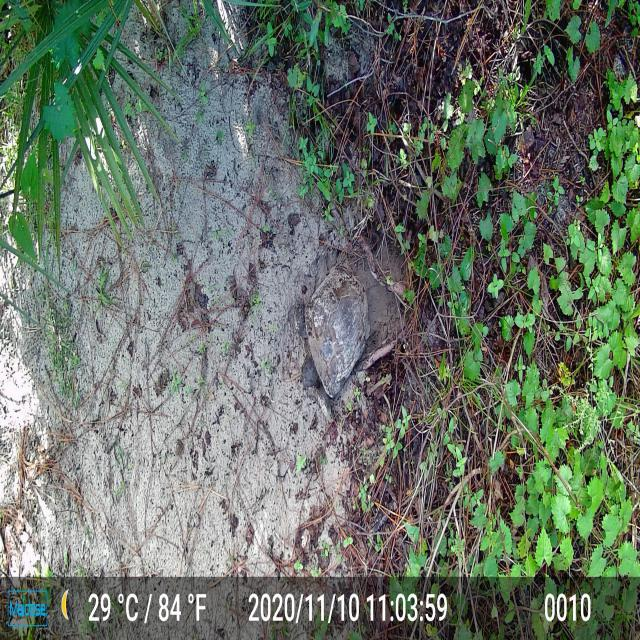tortoise: (286, 259, 370, 427)
